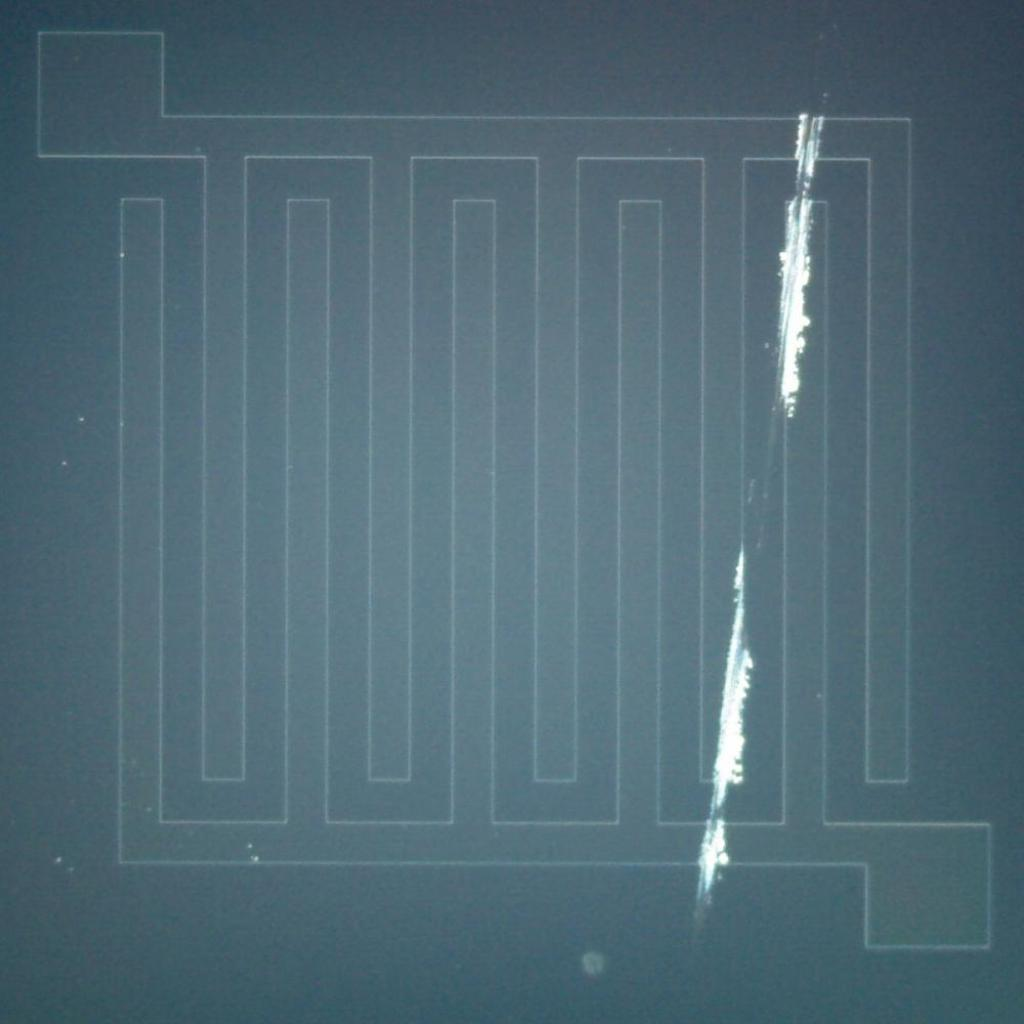dot: (56, 856, 62, 862), (254, 856, 260, 861), (120, 254, 124, 258), (80, 418, 84, 422), (62, 461, 66, 465)
straight: (681, 828, 742, 890), (710, 648, 763, 702), (706, 702, 758, 754), (703, 756, 756, 806), (767, 326, 812, 371), (767, 373, 812, 418), (774, 243, 815, 284), (770, 286, 812, 326), (777, 202, 818, 242), (780, 161, 821, 200), (788, 121, 828, 158)
